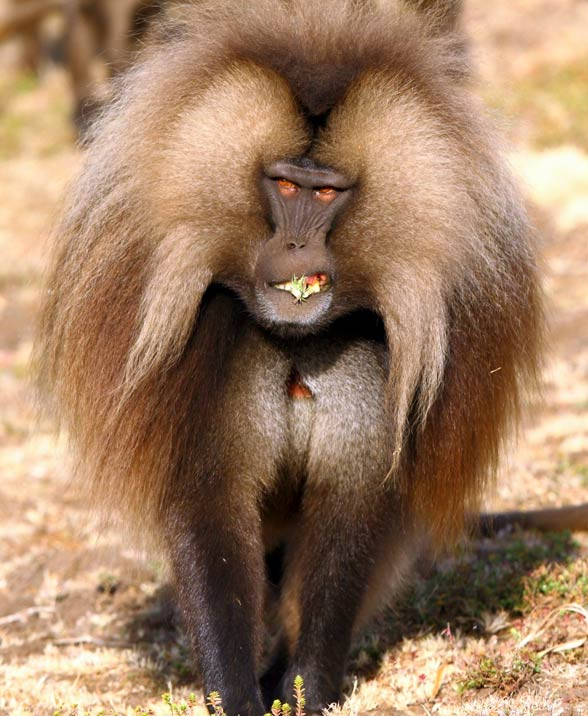Gelada: (120, 35, 496, 688)
